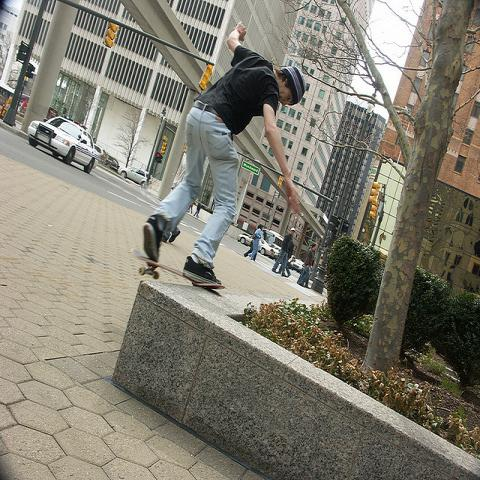car: (28, 114, 100, 173), (118, 167, 152, 188), (261, 228, 285, 251), (258, 236, 280, 259), (99, 148, 120, 172), (236, 233, 261, 252), (290, 258, 304, 273), (95, 144, 103, 158)
